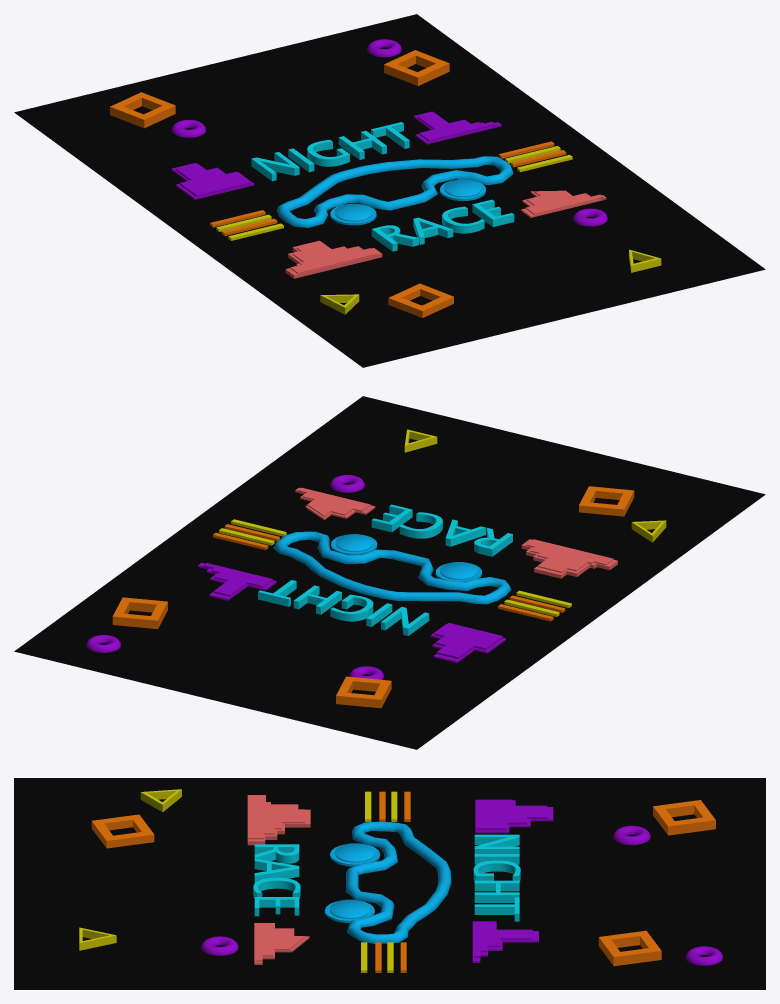
File: Poster 3.fbx
3 views of the same model, one above another, from view 1: azimuth 30°, elevation 25°; view 2: azimuth 150°, elevation 25°; view 3: azimuth 270°, elevation 25° (orthographic). The views are drawn at different scales.
Parts seen in each view (by area): view 1: poster_3_backing, Auto, NIGHT_text2, RACE_text, voorgrond_shillouet, voorgrond_sh3, Vierkantjes, Vierkantje_2, Vierkantje_3, voorgrond_sh5, voorgrond_sh4, Gebouwtje_3; view 2: poster_3_backing, Auto, NIGHT_text2, RACE_text, voorgrond_sh3, voorgrond_shillouet, Vierkantjes, Vierkantje_2, Vierkantje_3, voorgrond_sh5, voorgrond_sh4, Gebouwtje_3; view 3: poster_3_backing, Auto, NIGHT_text2, RACE_text, voorgrond_shillouet, voorgrond_sh3, Vierkantje_2, Vierkantjes, Vierkantje_3, voorgrond_sh5, voorgrond_sh4, pCylinder4 (+10 smaller).
Boxes of the visible parts, box(x1,y1,x2,y2) form: poster_3_backing: box(14, 14, 765, 367); Auto: box(277, 156, 513, 227); NIGHT_text2: box(251, 122, 409, 181); RACE_text: box(371, 199, 514, 251); voorgrond_shillouet: box(175, 163, 251, 196); voorgrond_sh3: box(290, 241, 377, 273); Vierkantjes: box(110, 92, 175, 128); Vierkantje_2: box(384, 50, 449, 85); Vierkantje_3: box(388, 283, 453, 317); voorgrond_sh5: box(417, 112, 495, 141); voorgrond_sh4: box(525, 190, 603, 214); Gebouwtje_3: box(285, 240, 382, 278); poster_3_backing: box(14, 396, 765, 749); Auto: box(273, 531, 511, 604); NIGHT_text2: box(258, 580, 429, 635); RACE_text: box(371, 504, 512, 556); voorgrond_sh3: box(526, 539, 613, 572); voorgrond_shillouet: box(434, 623, 502, 658); Vierkantjes: box(336, 676, 391, 708); Vierkantje_2: box(112, 597, 167, 629); Vierkantje_3: box(579, 486, 634, 516); voorgrond_sh5: box(203, 563, 272, 596); voorgrond_sh4: box(298, 487, 370, 516); Gebouwtje_3: box(521, 539, 617, 578); poster_3_backing: box(14, 778, 765, 989); Auto: box(346, 821, 451, 943); NIGHT_text2: box(473, 834, 520, 921); RACE_text: box(253, 844, 300, 916); voorgrond_shillouet: box(476, 799, 547, 830); voorgrond_sh3: box(248, 796, 304, 839); Vierkantje_2: box(598, 930, 661, 966); Vierkantjes: box(653, 800, 715, 835); Vierkantje_3: box(91, 814, 154, 848); voorgrond_sh5: box(473, 921, 532, 959); voorgrond_sh4: box(255, 924, 305, 961); pCylinder4: box(330, 899, 369, 918).
Size of the model in its own units: 400 by 16.19 by 600.
